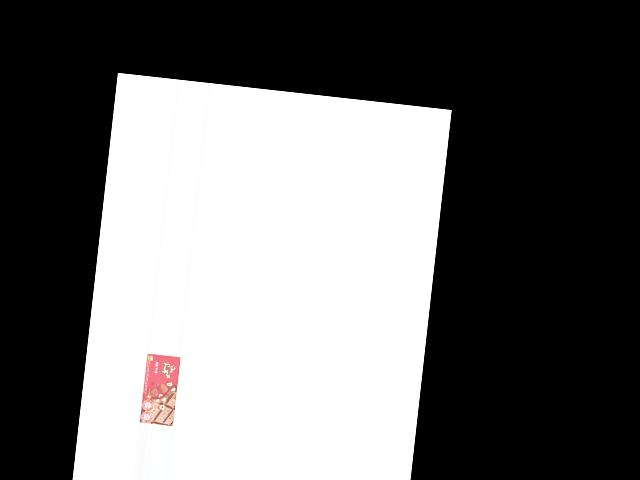chocolate: (138, 353, 180, 426)
